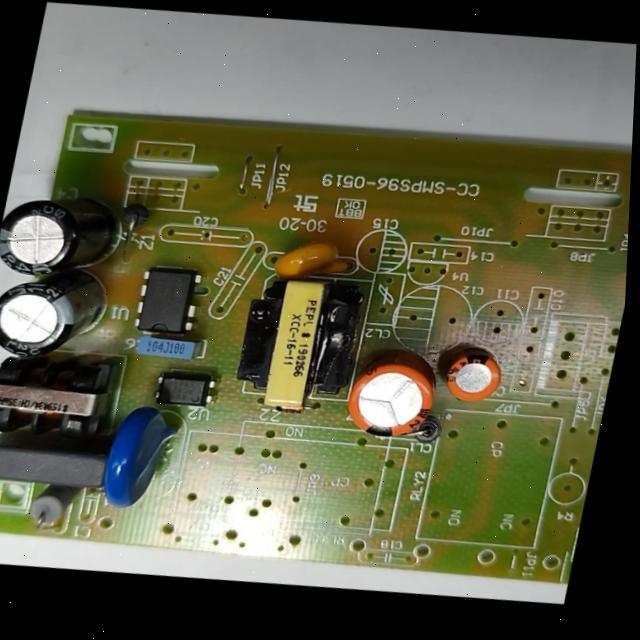Cap1: (339, 355, 445, 446)
Cap2: (441, 350, 506, 407)
Cap3: (0, 263, 118, 372)
Cap4: (0, 183, 131, 290)
MOSFET: (130, 264, 207, 339)
Mov: (97, 399, 192, 517)
Resistor: (20, 481, 84, 533)
Transformer: (227, 268, 374, 420), (0, 346, 123, 449)
